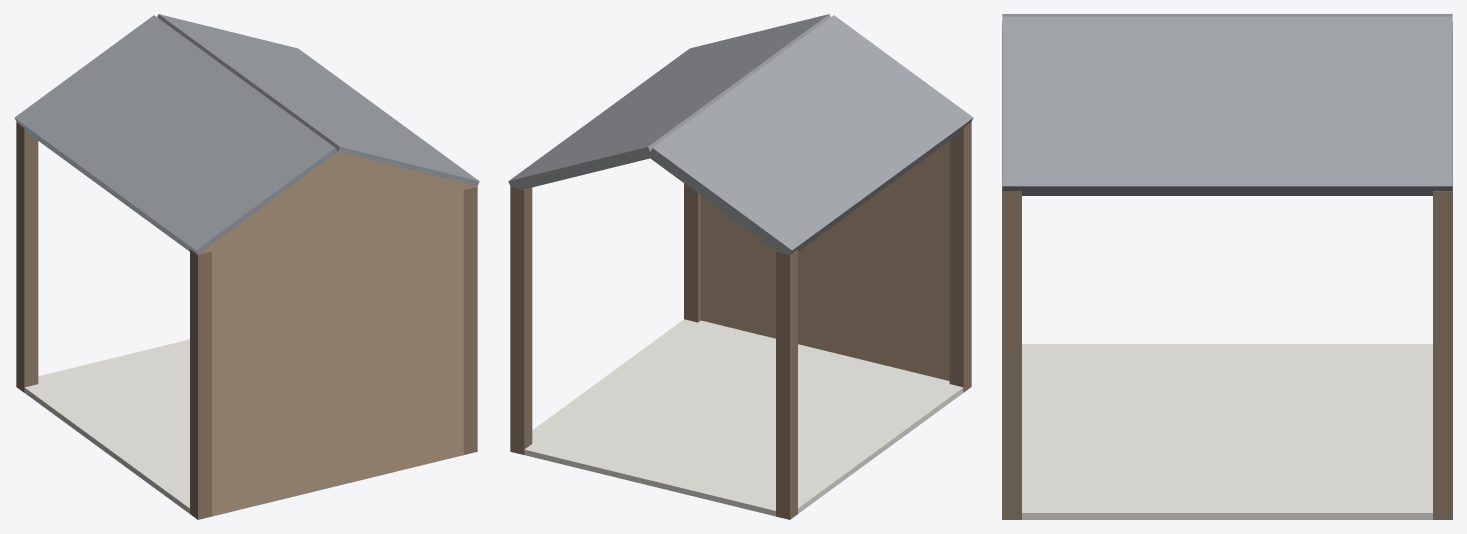
Rendered from aisle-end.glb.
3 renders of one model, left to right at view 1: azimuth 30°, elevation 25°; view 2: azimuth 150°, elevation 25°; view 3: azimuth 270°, elevation 25°, orthographic. The views are drawn at different scales.
Parts seen in each view (by area): view 1: aisle-end; view 2: aisle-end; view 3: aisle-end.
Boxes of the visible parts, x1,y1,x2,y2 form: aisle-end: (14,14,479,519); aisle-end: (508,14,973,519); aisle-end: (1002,14,1452,519).
Size of the model in its own units: 3.25 by 3.7 by 3.6.
